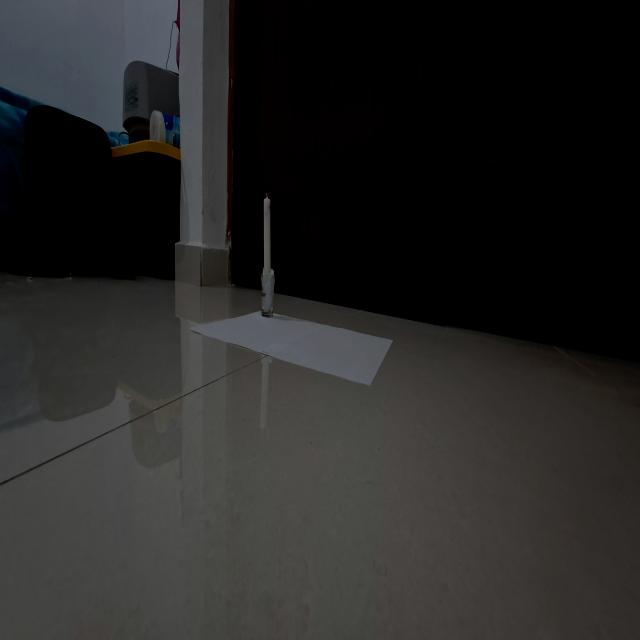candle: (258, 190, 278, 319)
